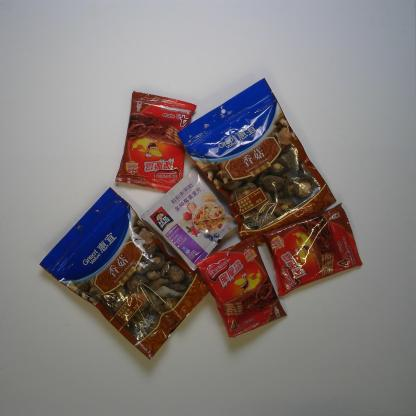Dessert: (192, 236, 288, 343), (261, 202, 363, 298), (111, 88, 197, 196)
Dried Food: (36, 184, 210, 365), (177, 75, 339, 248)
Instant Drink: (138, 166, 240, 274)
